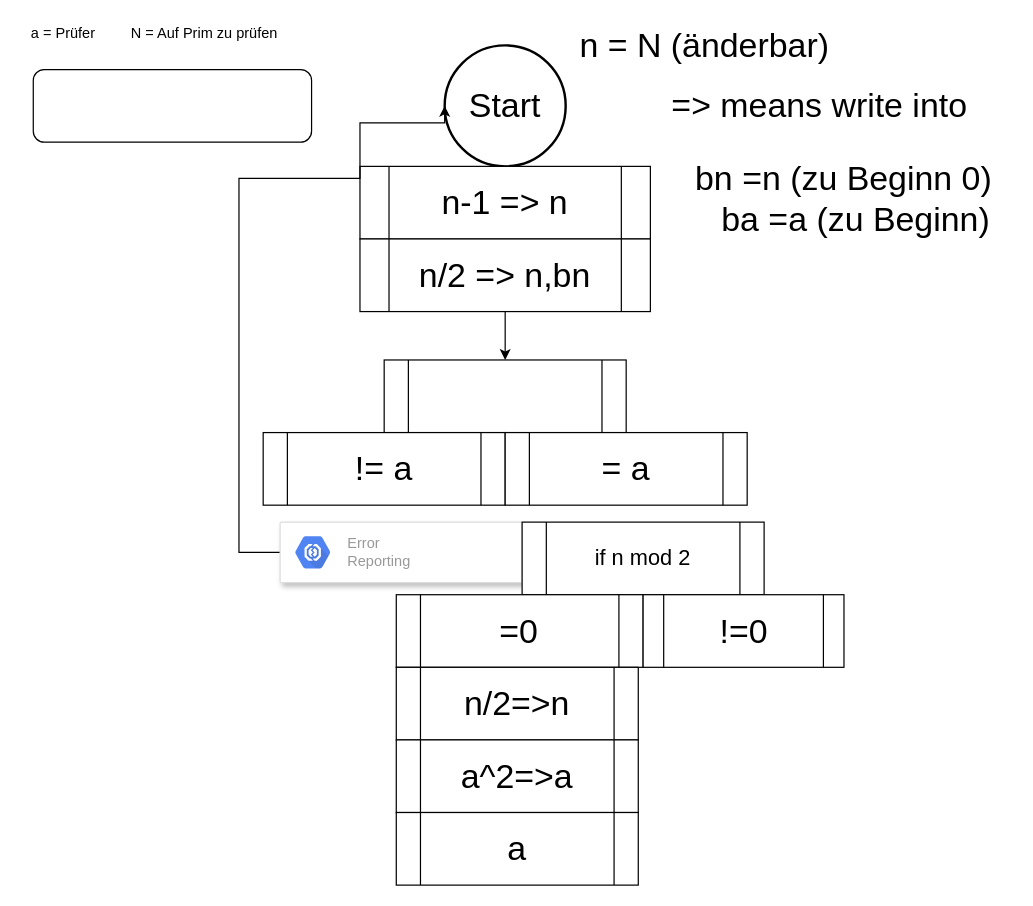
Some shapes in this 1033 by 906 pixel diagram are drawn without their labels. Here are the shapes that lost their labels. From the top down, the centre of each, then its label:
pixel 172 105: a (n-1)/2 mod N
pixel 504 396: if a mod N
pixel 401 553: new N
